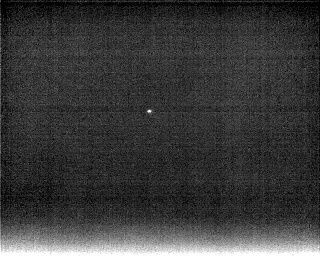BIRD: (145, 106, 154, 117)
